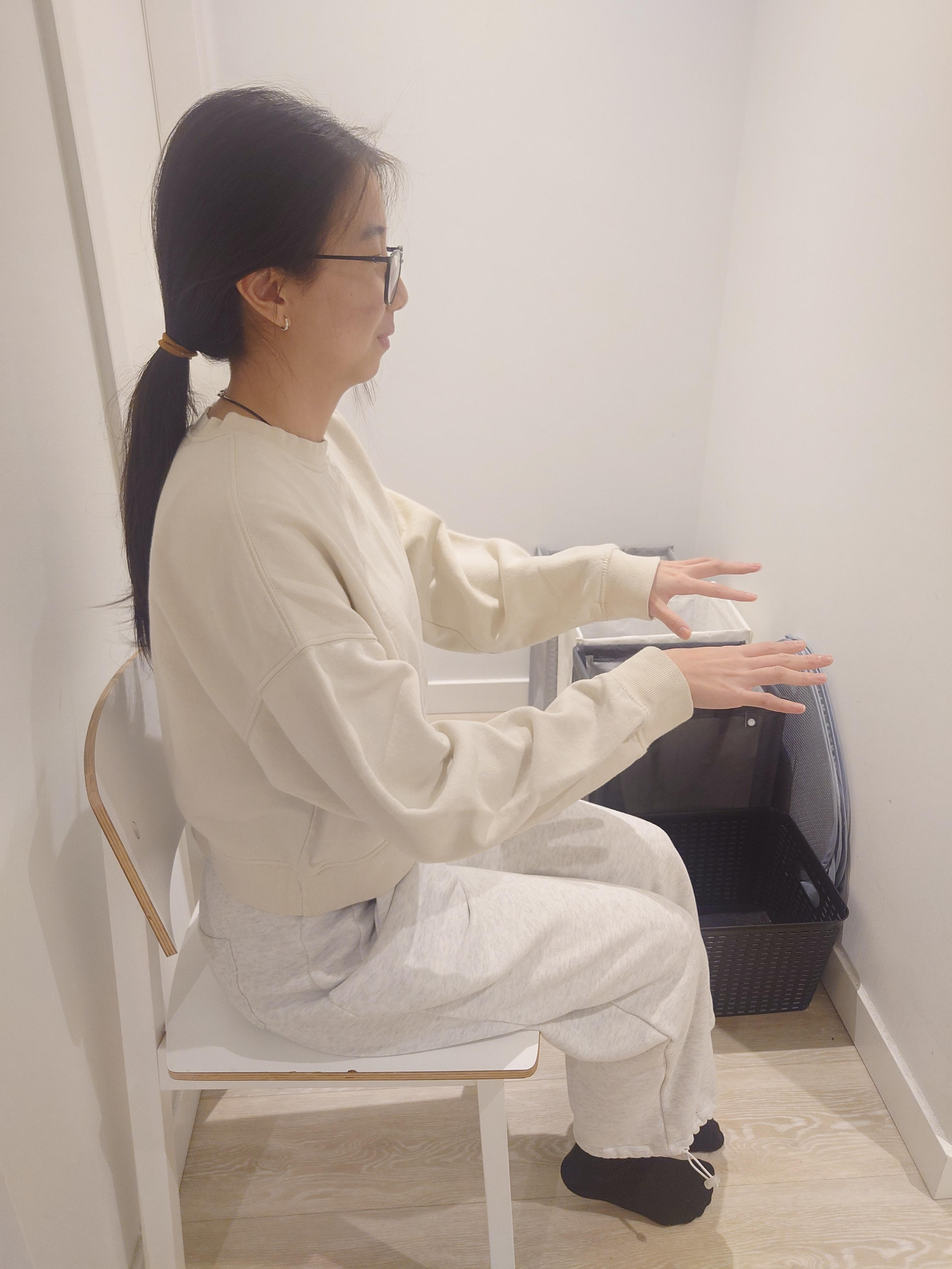GoodPosture: (121, 87, 834, 1225)
